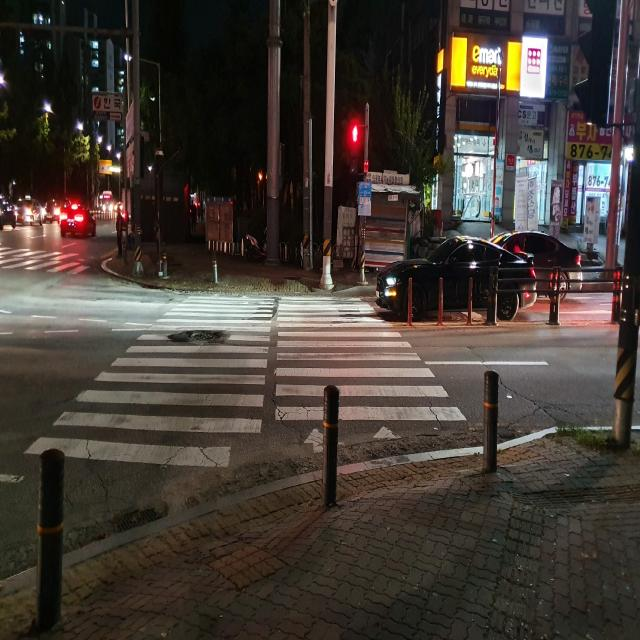빨간불: (350, 124, 360, 171)
횡단보도: (22, 293, 468, 470), (0, 250, 91, 273)
